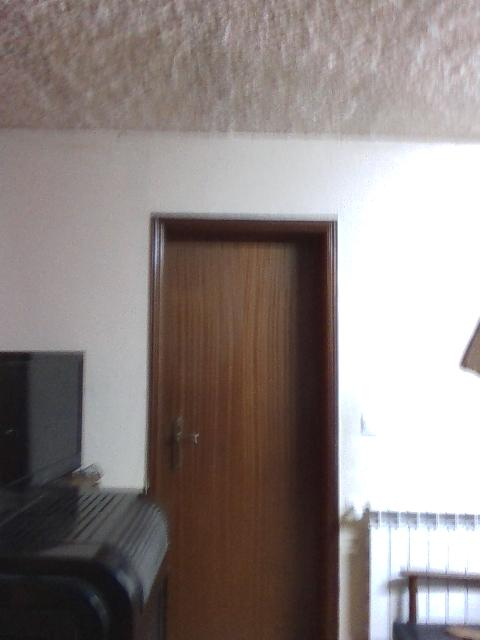closed_door: (144, 211, 339, 638)
